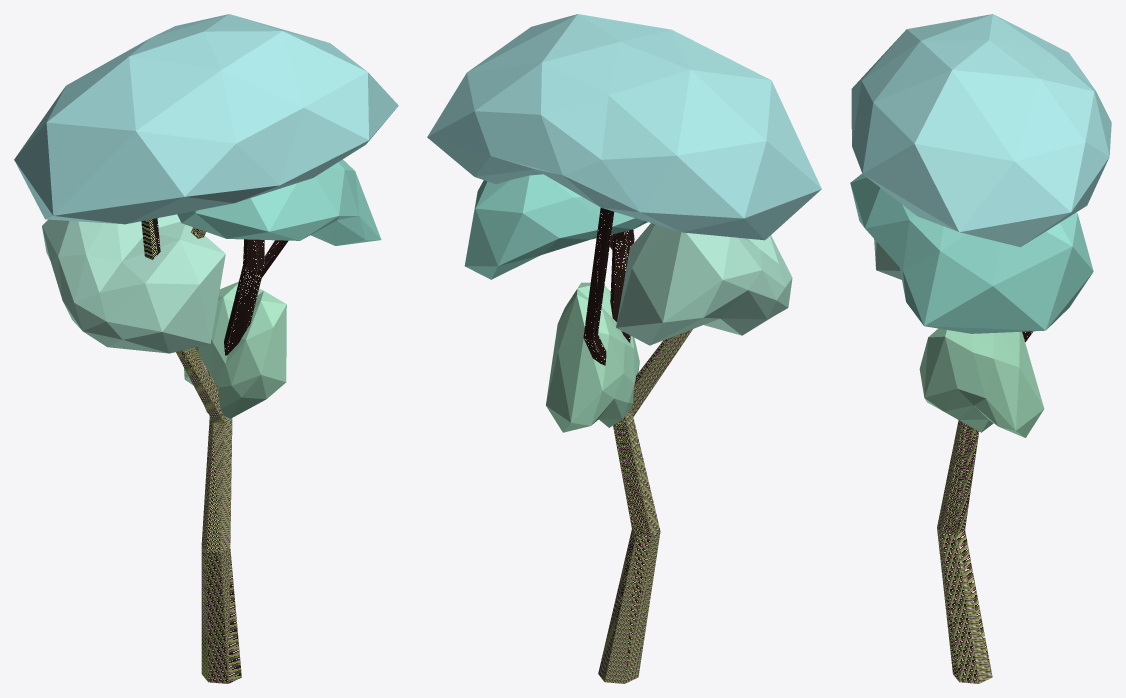
Rendered from LPTree_Tree_Type3_04_Model_instanced_l2_superhigh.glb.
3 views of the same model, side by side, from view 1: azimuth 30°, elevation 25°; view 2: azimuth 150°, elevation 25°; view 3: azimuth 270°, elevation 25° (orthographic).
Visible parts, largest first — view 1: Tree Type3 04 Model; view 2: Tree Type3 04 Model; view 3: Tree Type3 04 Model.
Boxes of the visible parts, left/top/right/bottom form: Tree Type3 04 Model: left=14, top=14, right=398, bottom=683; Tree Type3 04 Model: left=427, top=14, right=821, bottom=683; Tree Type3 04 Model: left=850, top=14, right=1111, bottom=683.
Bounding box in the file's own units: 3.47 × 5.96 × 2.24.
5 materials, 1 textured.
